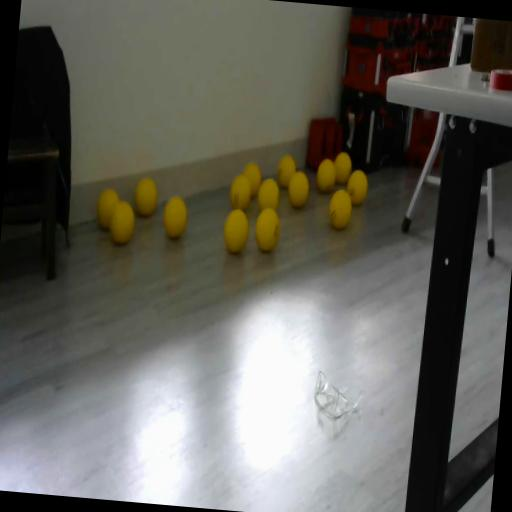FUEL: (221, 206, 251, 254), (108, 198, 138, 246), (252, 206, 282, 254), (160, 194, 190, 240), (328, 188, 354, 230), (286, 169, 312, 208), (134, 176, 158, 217), (256, 176, 282, 213), (240, 160, 264, 200), (346, 168, 370, 206), (276, 152, 298, 189), (316, 157, 338, 193), (332, 151, 353, 184)
